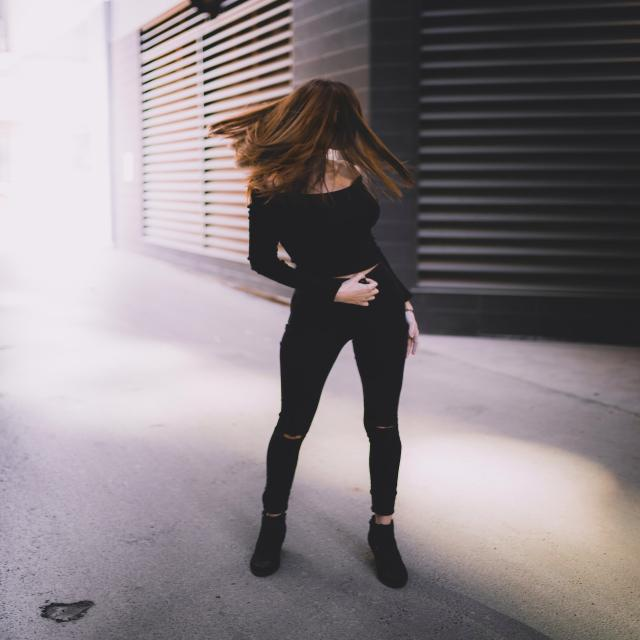adult: (248, 79, 420, 589)
